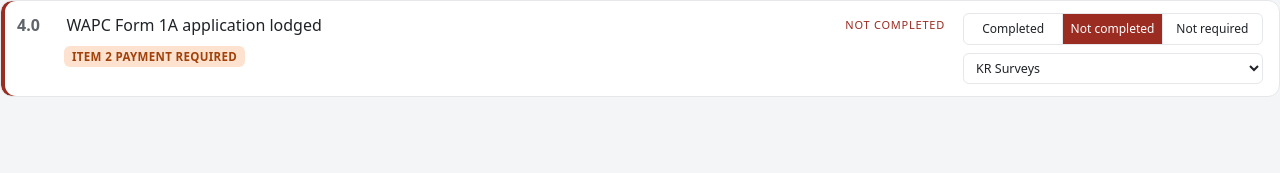
Test: useUpdateCheckpoint (through the card controls) › asks to wait when the API answers 429 with Retry-After, with the request id, and rolls back
Click the button "Completed" at (1014, 29), box left=964, top=14, right=1063, bottom=44
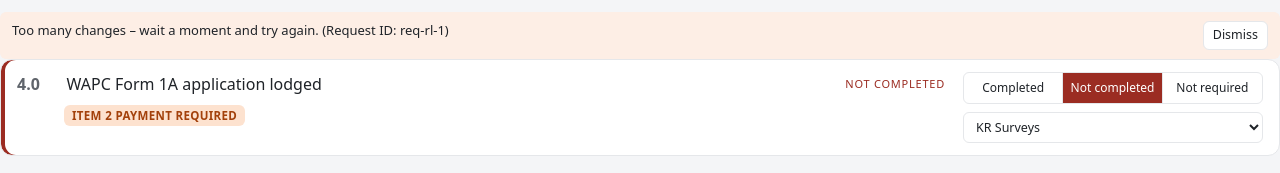
Expected: the text "Too many changes – wait a moment and try again." shows "(Request ID: req-rl-1)", left=12, top=21, right=449, bottom=39
